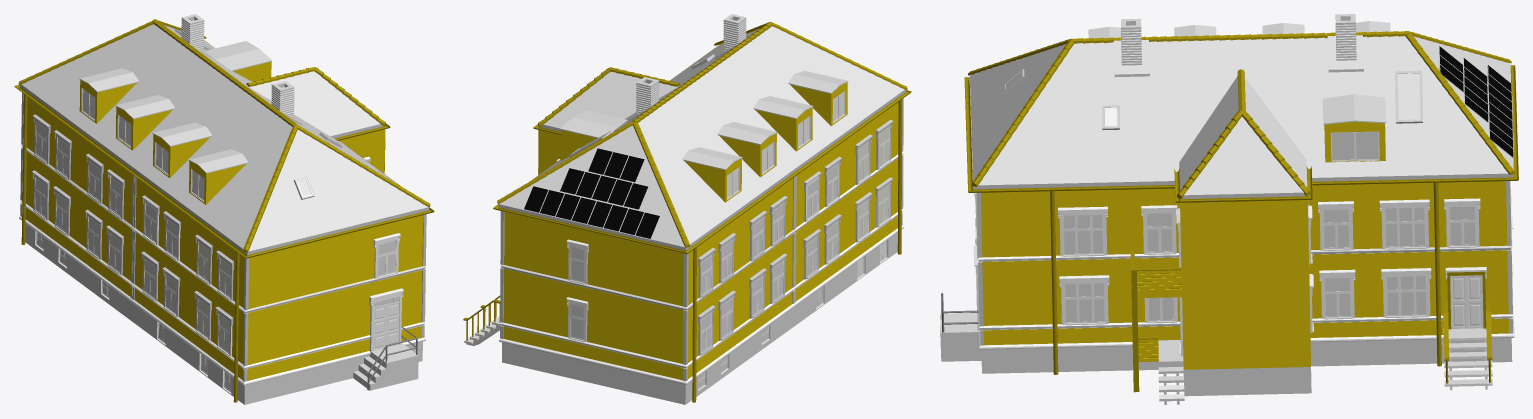
Rendered from house_panel_1_0010.glb.
3 renders of one model, left to right at view 1: azimuth 30°, elevation 25°; view 2: azimuth 150°, elevation 25°; view 3: azimuth 270°, elevation 25°, orthographic. The views are drawn at different scales.
Visible parts, largest first — view 1: SketchUp.874, SketchUp.871, SketchUp.865, SketchUp.002, SketchUp.511, SketchUp.484, SketchUp.001, SketchUp.872, SketchUp.015, SketchUp.057, SketchUp.052, SketchUp.734 (+19 smaller); view 2: SketchUp.874, SketchUp.871, SketchUp.002, SketchUp.865, SketchUp.511, SketchUp.484, SketchUp.001, SketchUp.872, SketchUp.057, SketchUp.052, SketchUp.734, SketchUp.522 (+30 smaller); view 3: SketchUp.871, SketchUp.874, SketchUp.868, SketchUp.865, SketchUp.002, SketchUp, SketchUp.511, SketchUp.872, SketchUp.734, SketchUp.057, SketchUp.484, SketchUp.019 (+30 smaller).
Part boxes in pixels (bbox=[...]): SketchUp.874: bbox=[25, 97, 423, 380]; SketchUp.871: bbox=[21, 24, 428, 251]; SketchUp.865: bbox=[249, 71, 380, 136]; SketchUp.002: bbox=[25, 224, 422, 404]; SketchUp.511: bbox=[14, 40, 434, 258]; SketchUp.484: bbox=[19, 216, 425, 385]; SketchUp.001: bbox=[109, 286, 199, 370]; SketchUp.872: bbox=[20, 84, 428, 255]; SketchUp.015: bbox=[353, 351, 418, 390]; SketchUp.057: bbox=[20, 200, 425, 369]; SketchUp.052: bbox=[21, 144, 426, 313]; SketchUp.734: bbox=[205, 41, 272, 71]; SketchUp.874: bbox=[503, 102, 898, 380]; SketchUp.871: bbox=[499, 26, 904, 247]; SketchUp.002: bbox=[502, 232, 897, 404]; SketchUp.865: bbox=[544, 72, 678, 128]; SketchUp.511: bbox=[493, 48, 911, 253]; SketchUp.484: bbox=[499, 225, 904, 384]; SketchUp.001: bbox=[770, 262, 857, 343]; SketchUp.872: bbox=[498, 89, 905, 250]; SketchUp.057: bbox=[499, 209, 903, 368]; SketchUp.052: bbox=[500, 153, 902, 310]; SketchUp.734: bbox=[560, 110, 627, 138]; SketchUp.522: bbox=[790, 82, 847, 126]; SketchUp.871: bbox=[969, 36, 1513, 185]; SketchUp.874: bbox=[981, 109, 1508, 345]; SketchUp.868: bbox=[1180, 200, 1310, 369]; SketchUp.865: bbox=[1179, 76, 1307, 195]; SketchUp.002: bbox=[981, 338, 1512, 373]; SketchUp: bbox=[1183, 366, 1311, 396]; SketchUp.511: bbox=[964, 65, 1518, 192]; SketchUp.872: bbox=[969, 77, 1513, 189]; SketchUp.734: bbox=[1322, 94, 1386, 124]; SketchUp.057: bbox=[975, 218, 1513, 330]; SketchUp.484: bbox=[975, 240, 1514, 349]; SketchUp.019: bbox=[1137, 270, 1181, 298].
Size of the model in its own units: 13.74 by 13.47 by 22.92.
